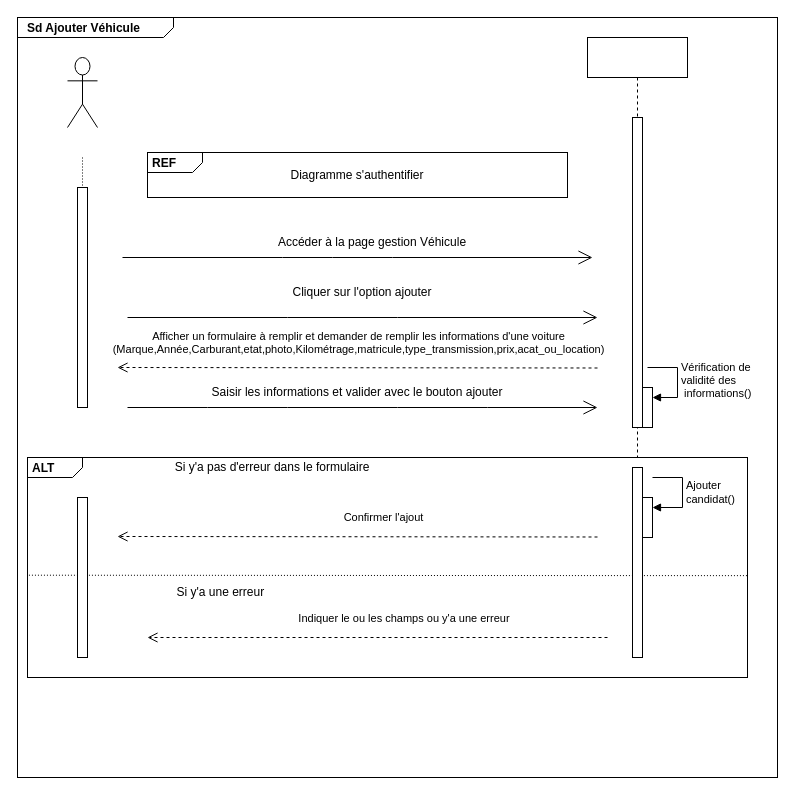
This 795x803 diagram has some shape labels left out. Here are the shapes that lost their labels. From the top down, the box of each, then its label:
(66, 56, 98, 128): Secrétaire
(586, 36, 688, 458): Système
